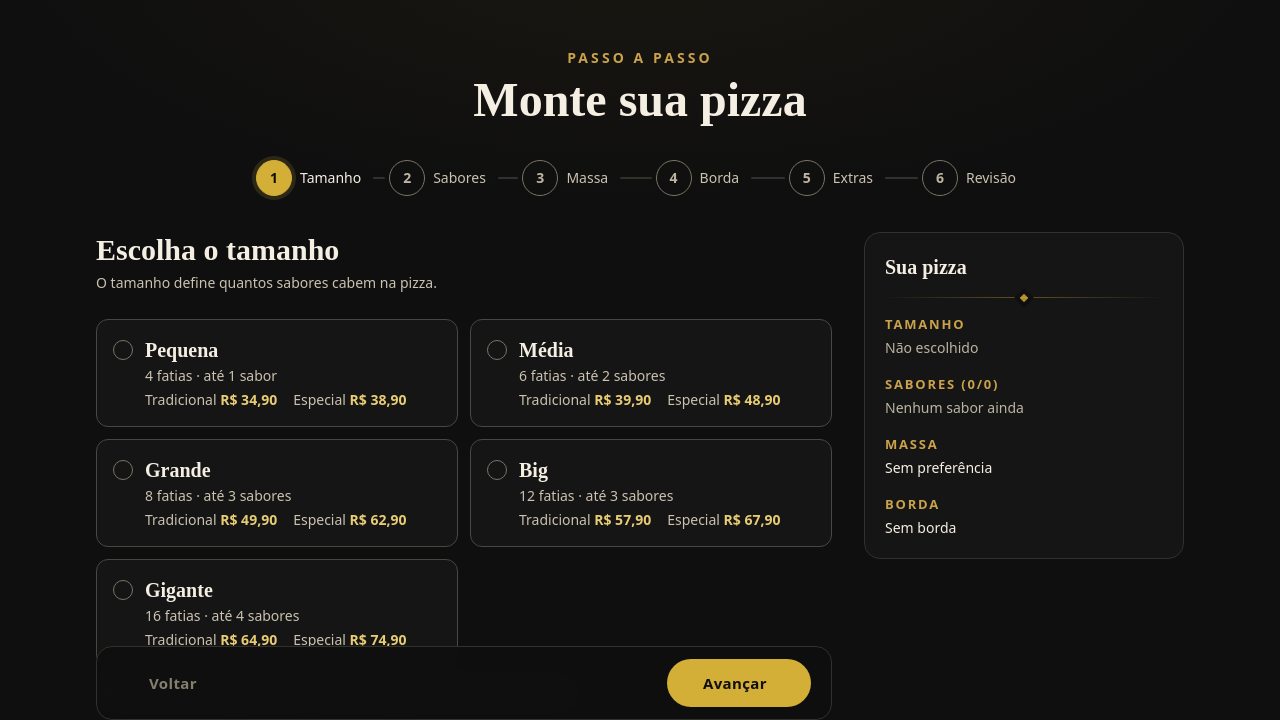
Test case: BuilderPageComponent (montar pizza) › respeita o limite de sabores do tamanho: contador, desabilitação dos demais e aviso
The width and height of the screenshot is (1280, 720).
Click the radio button with id "size-media": (651, 373) [470,319,832,427]
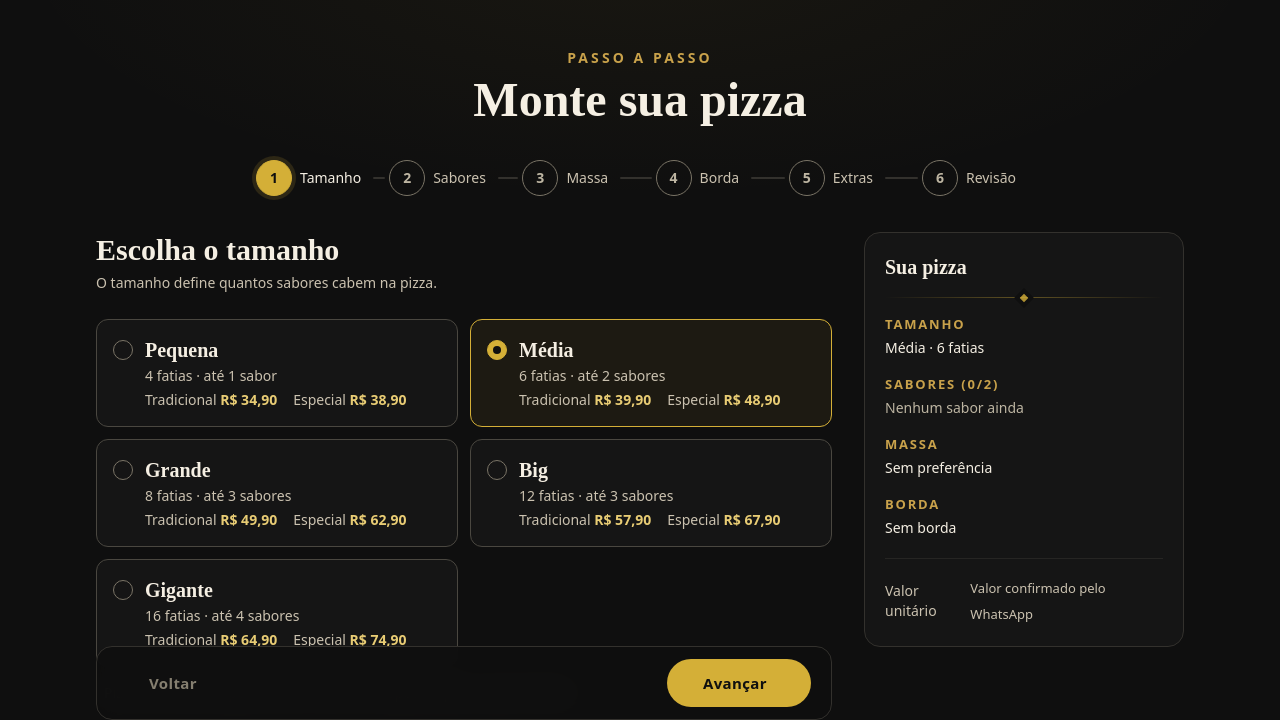
Click the button "Avançar": (739, 683) [667,659,811,707]
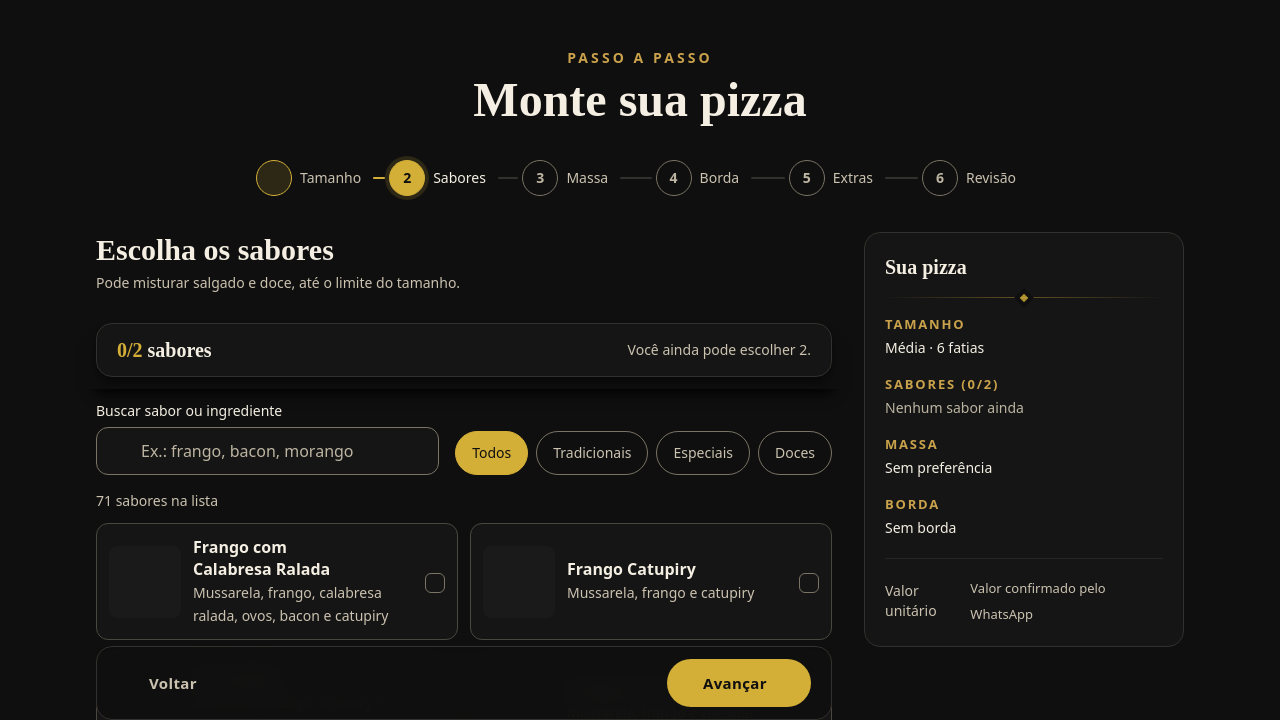
Now the heading with id "step-title" shows "sabores", box [96,233,334,266]
Now the element with id "flavor-counter" reads "0/2 sabores", box [117,336,212,364]
Click the checkbox that starts with "Frango com Calabresa Ralada": (277, 582) [96,523,458,640]
(page scrolled)
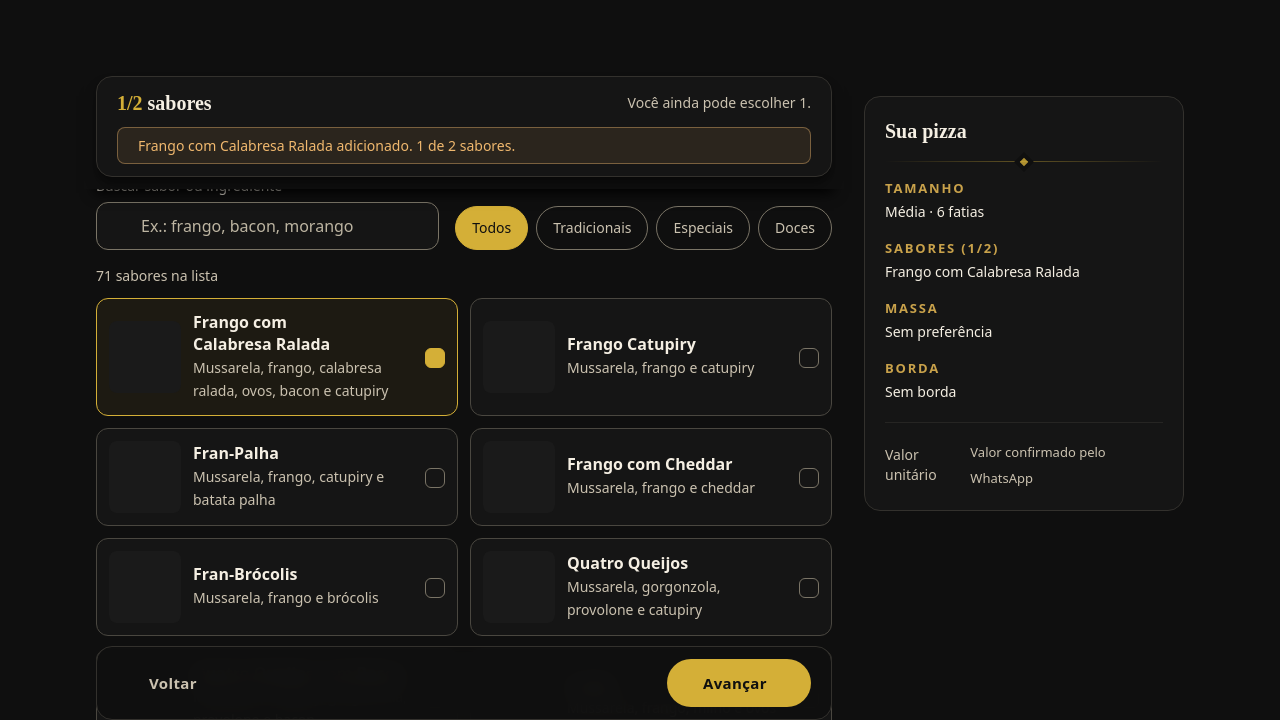
Click the checkbox labelled "Frango Catupiry Mussarela, frango e catupiry": (651, 357) [470,298,832,416]
(page scrolled)
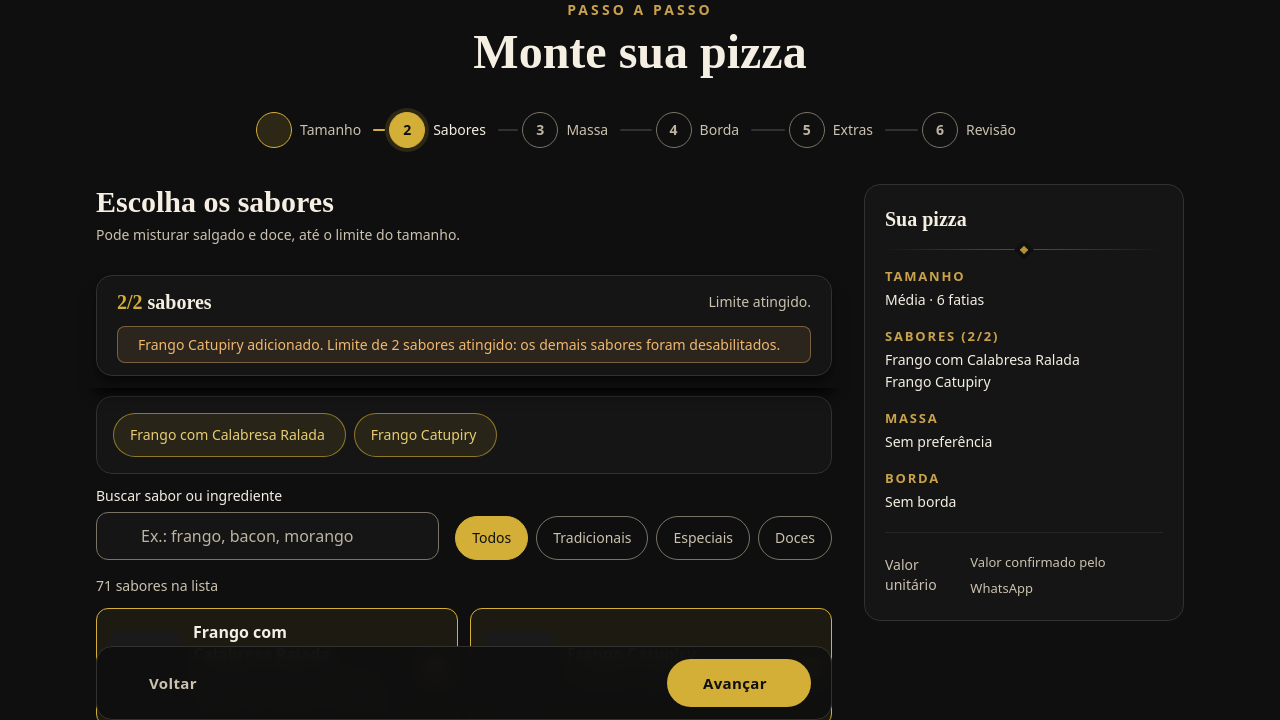
Now the element with id "flavor-counter" reads "2/2 sabores", box [117,288,212,316]
